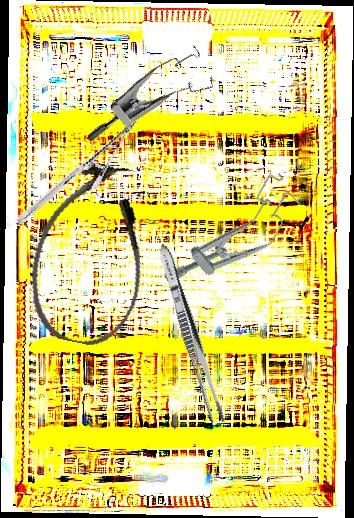Cannula: (18, 153, 164, 354)
Dressing Forceps: (153, 241, 229, 428)
Needle Holder: (15, 92, 139, 251)
Speculum: (155, 168, 312, 310), (84, 28, 226, 180)
